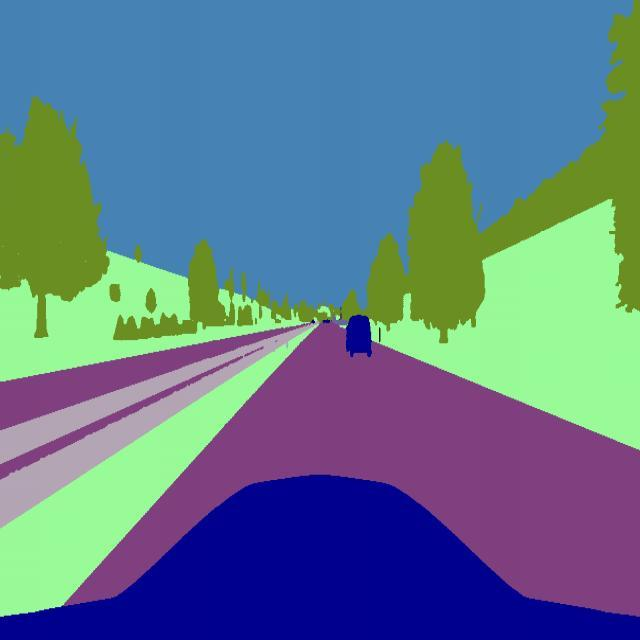safe: (344, 314, 372, 360)
